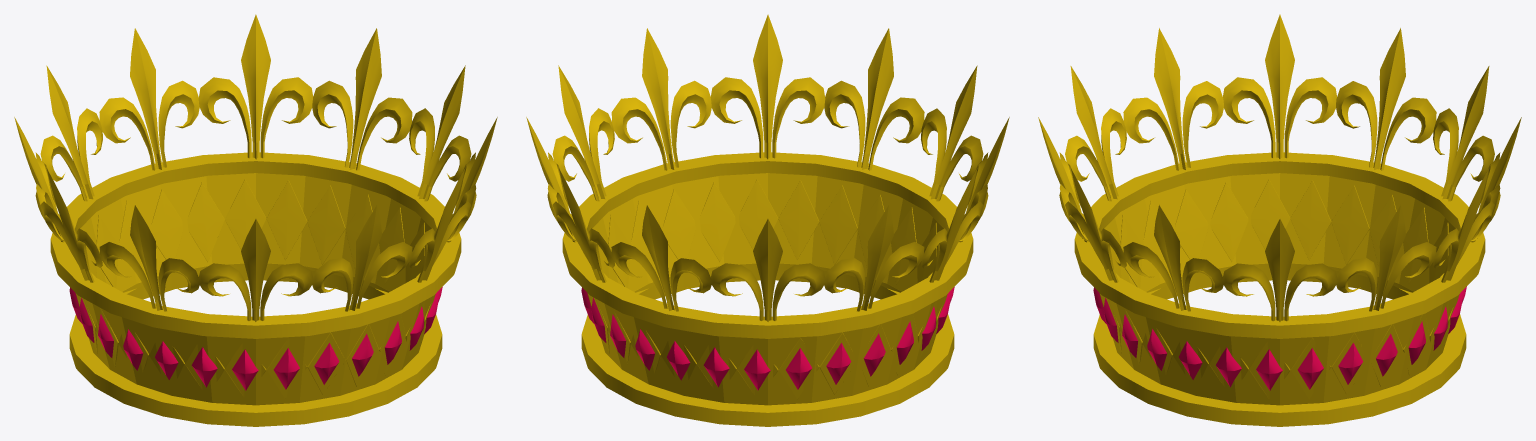
3 renders of one model, left to right at view 1: azimuth 30°, elevation 25°; view 2: azimuth 150°, elevation 25°; view 3: azimuth 270°, elevation 25°, orthographic.
Visible parts, largest first — view 1: CrownCylinder1, CrownTop1, Ruby1; view 2: CrownCylinder1, CrownTop1, Ruby1; view 3: CrownCylinder1, CrownTop1, Ruby1.
Boxes of the visible parts, bbox=[...] form: CrownCylinder1: bbox=[50, 152, 461, 426]; CrownTop1: bbox=[14, 14, 497, 321]; Ruby1: bbox=[69, 179, 442, 399]; CrownCylinder1: bbox=[562, 152, 973, 426]; CrownTop1: bbox=[526, 14, 1009, 321]; Ruby1: bbox=[581, 179, 954, 399]; CrownCylinder1: bbox=[1074, 152, 1485, 426]; CrownTop1: bbox=[1038, 14, 1521, 321]; Ruby1: bbox=[1093, 179, 1466, 399].
Bounding box in the file's own units: 0.0383 × 0.0202 × 0.0383.
